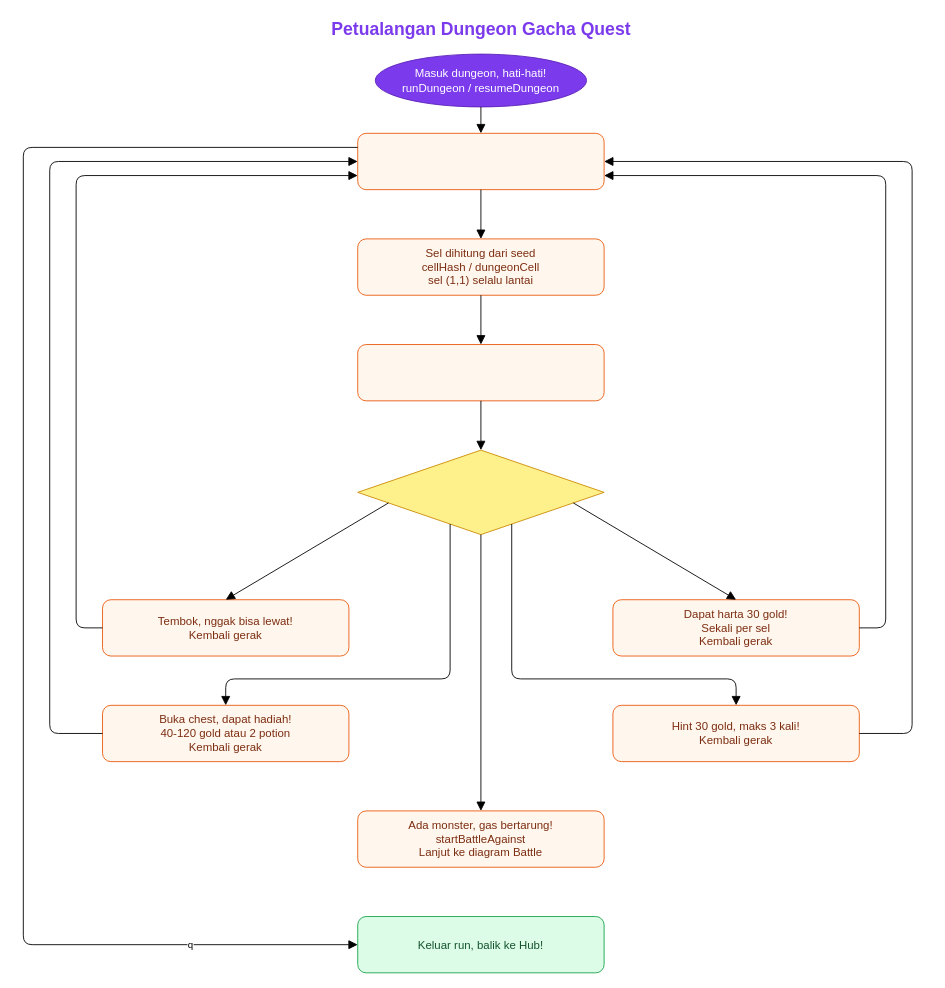
Some shapes in this 945 by 988 pixel diagram are drawn without their labels. The centre of each missing label's shape, as x and y in pixels:
Ada apa di sel ini?: the point at 480,492
DFS dan BFS cek jalur dfsReachable / bfsShortestPath: the point at 480,372
Gerak pakai WASD! h hint, q keluar run: the point at 480,161
